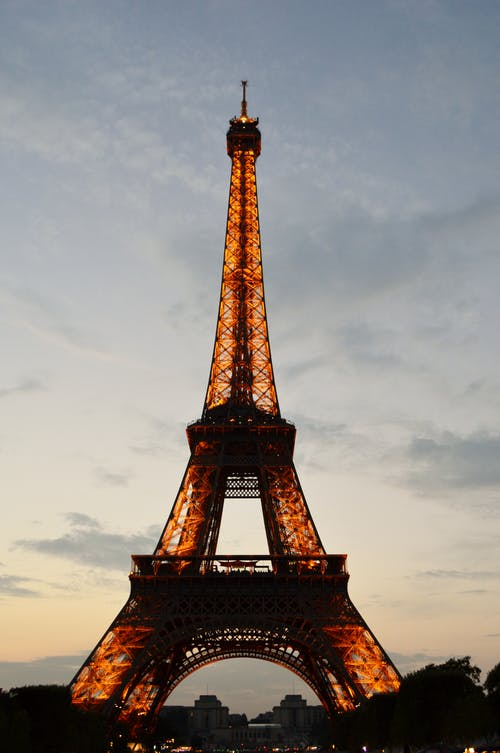eiffel tower: (81, 60, 415, 717)
